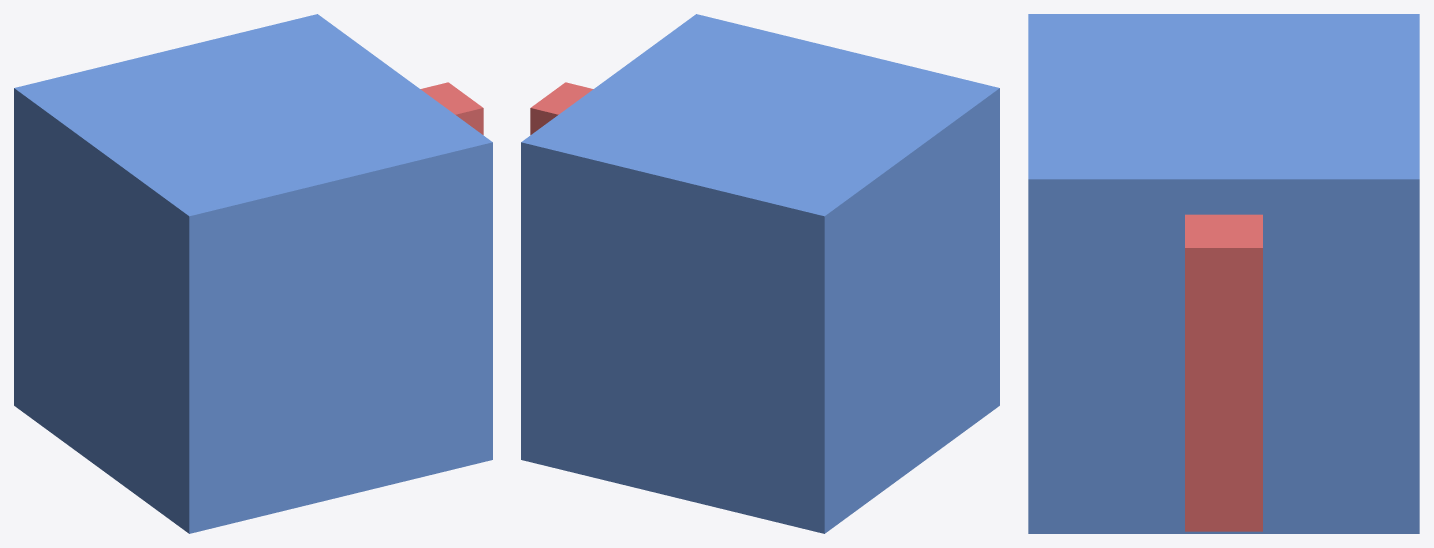
Rendered from robot.gltf.
3 views of the same model, side by side, from view 1: azimuth 30°, elevation 25°; view 2: azimuth 150°, elevation 25°; view 3: azimuth 270°, elevation 25° (orthographic). The views are drawn at different scales.
Visible parts, largest first — view 1: body, arm; view 2: body, arm; view 3: body, arm.
Part boxes in pixels (bbox=[...]): body: bbox=[14, 14, 492, 533]; arm: bbox=[420, 82, 483, 134]; body: bbox=[521, 14, 999, 533]; arm: bbox=[530, 82, 593, 134]; body: bbox=[1028, 14, 1419, 533]; arm: bbox=[1185, 214, 1262, 531].
Size of the model in its own units: 1.2 by 1 by 1.
